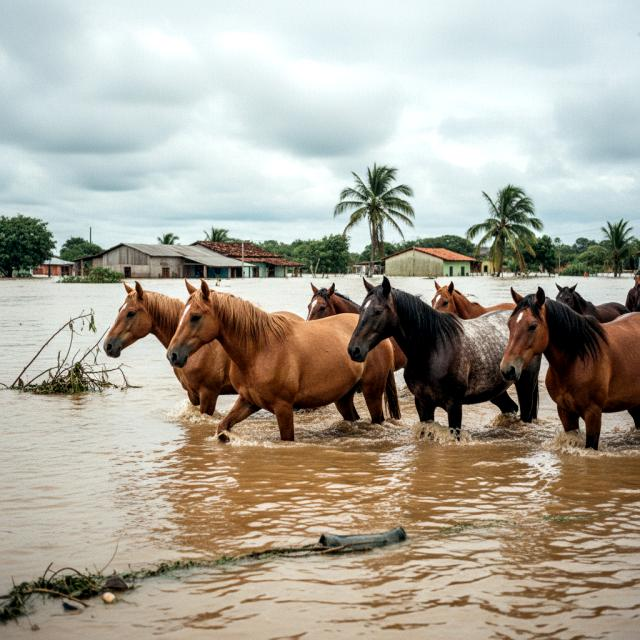horse: (161, 279, 400, 451), (346, 276, 547, 439), (98, 279, 308, 432), (499, 281, 640, 453), (422, 273, 522, 323), (542, 275, 640, 323), (297, 279, 366, 319)
